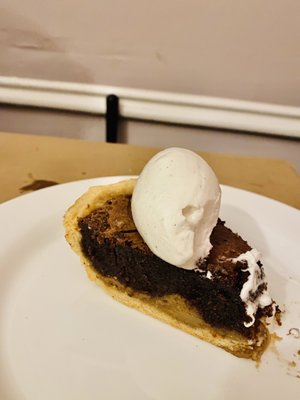curry: (1, 132, 299, 399)
sushi: (62, 147, 280, 364)
